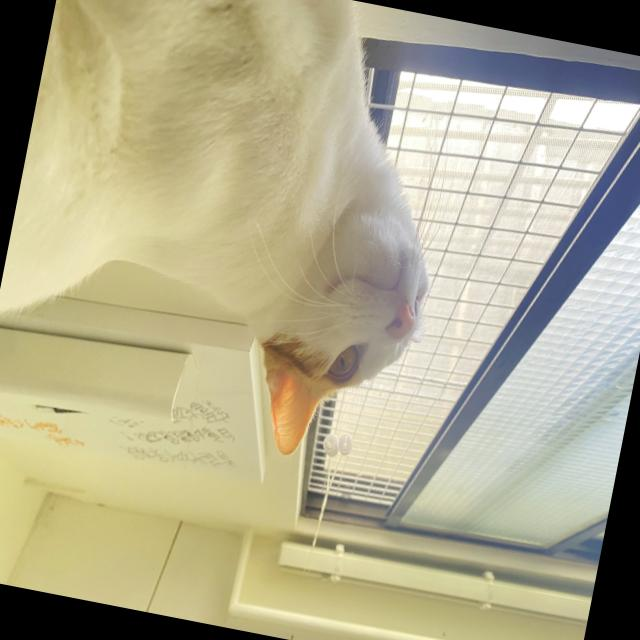cat1: (0, 0, 482, 475)
